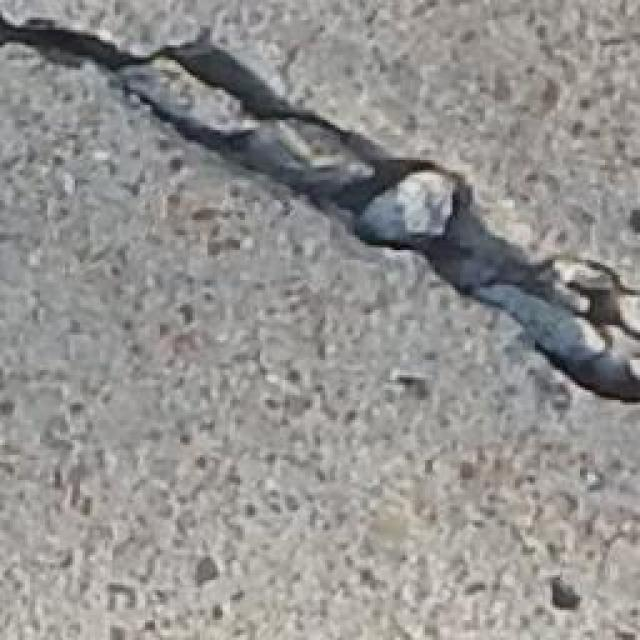concrete-crack: (4, 6, 639, 413)
